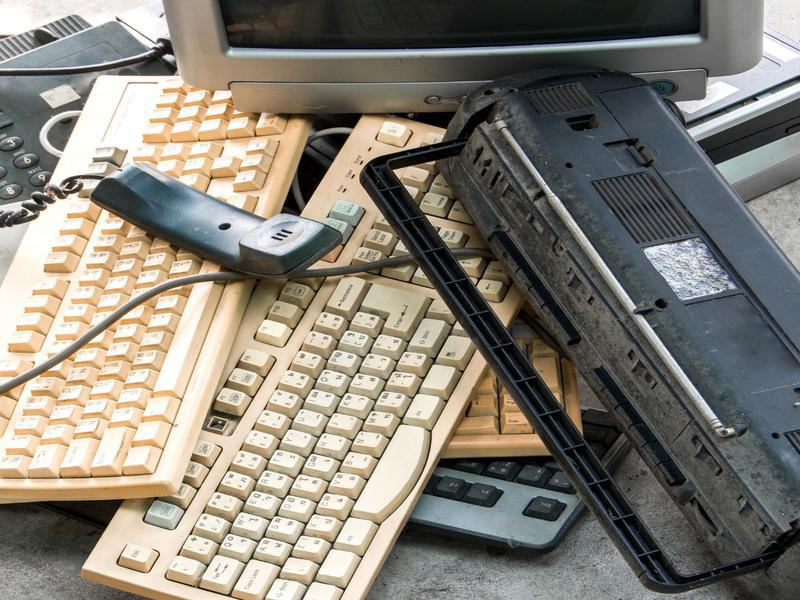keyboard: (77, 110, 535, 600), (2, 64, 311, 507)
